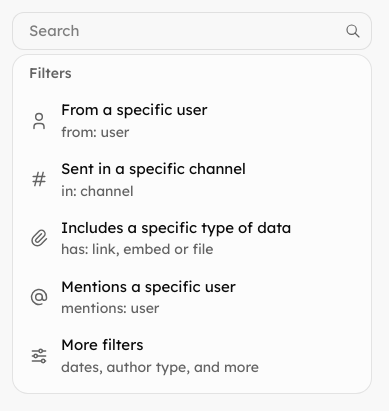
Test: SearchFilterPopover › inserts from: from the command menu and immediately shows channel members
Press the mouse on the menu item "From a specific user from: user": (192, 121) [21,91,363,150]
Click the menu item "From a specific user from: user": (192, 121) [21,91,363,150]
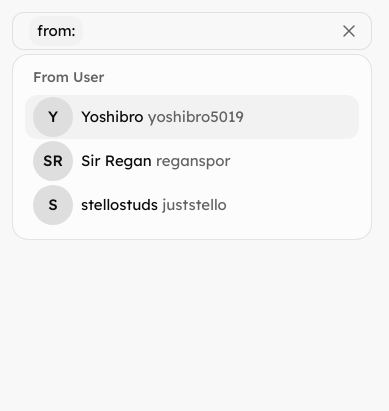
Expected: the option "Y Yoshibro yoshibro5019" is shown, [25,95,359,139]
Expected: the number of options is 3, [25,95,359,139]; [25,139,359,183]; [25,183,359,227]
